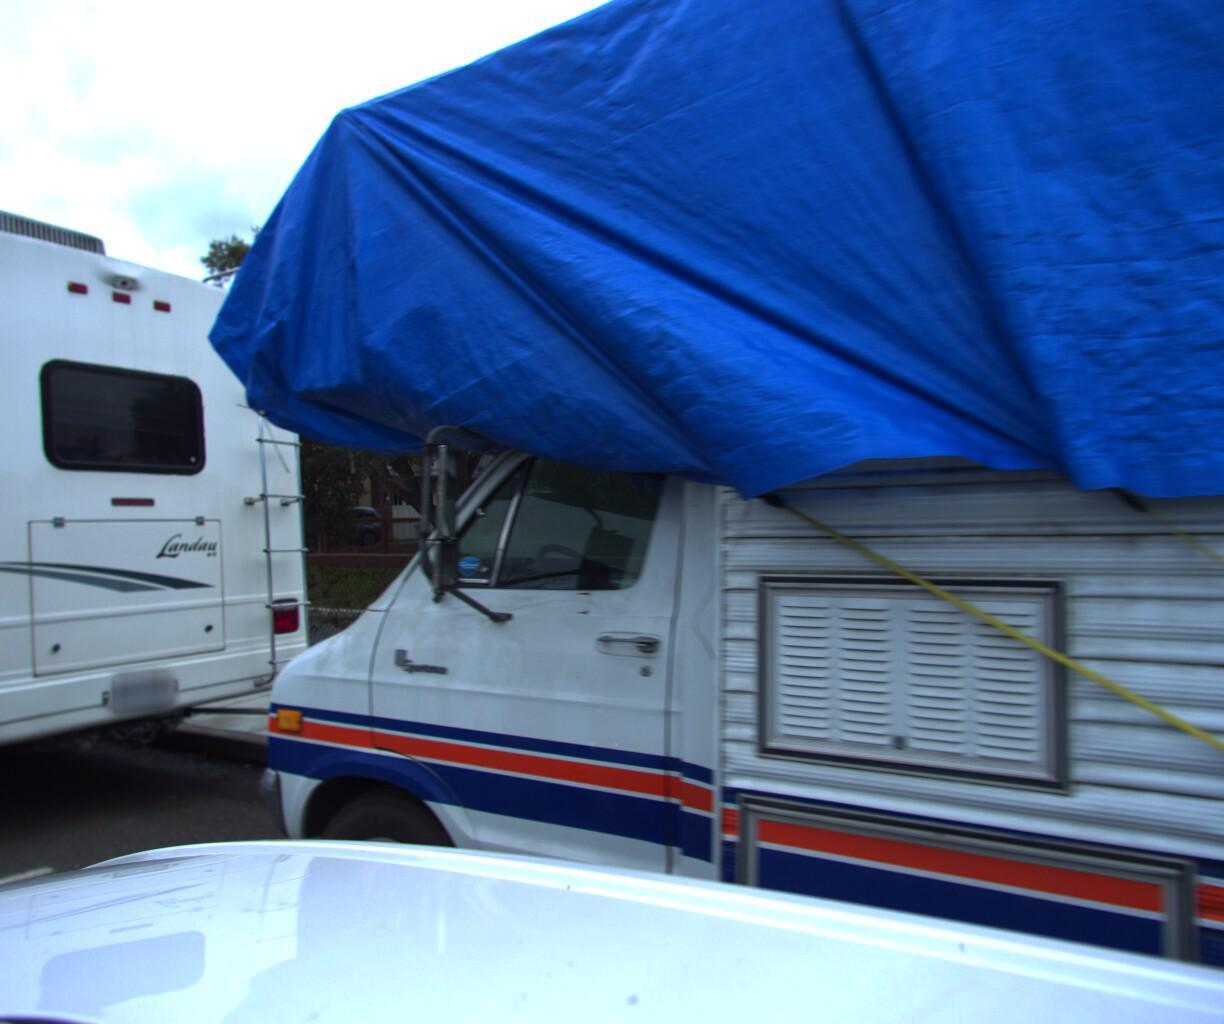other_vehicle: (0, 160, 353, 902)
